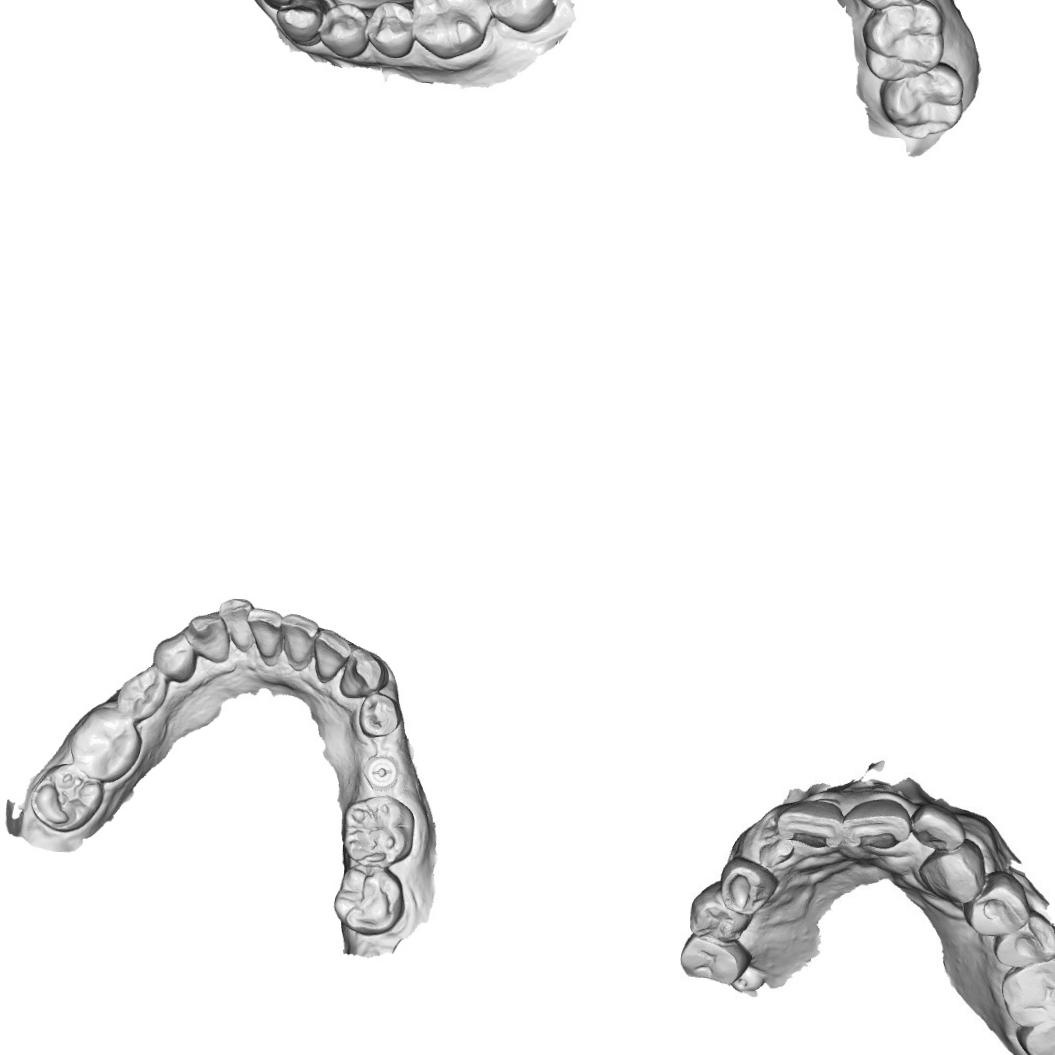canine: (920, 838, 986, 905), (720, 855, 777, 916), (338, 645, 390, 700), (182, 613, 232, 665), (274, 3, 322, 47)
implant: (361, 752, 400, 792)
incisor: (840, 800, 910, 848), (909, 802, 965, 856), (778, 804, 842, 846), (312, 626, 352, 683), (278, 612, 320, 666), (244, 606, 285, 660), (216, 595, 253, 653), (253, 0, 300, 8)
molar: (878, 59, 966, 141), (860, 0, 945, 83), (67, 704, 143, 784), (339, 792, 416, 870), (28, 761, 107, 835), (332, 865, 408, 938), (409, 0, 496, 61), (1002, 958, 1055, 1030), (476, 0, 557, 34)
premolar: (678, 932, 748, 986), (968, 876, 1028, 935), (688, 887, 747, 945), (112, 662, 169, 722), (362, 0, 415, 59), (992, 916, 1055, 965), (318, 2, 368, 60), (145, 634, 200, 680), (356, 690, 402, 740), (854, 0, 928, 12)
